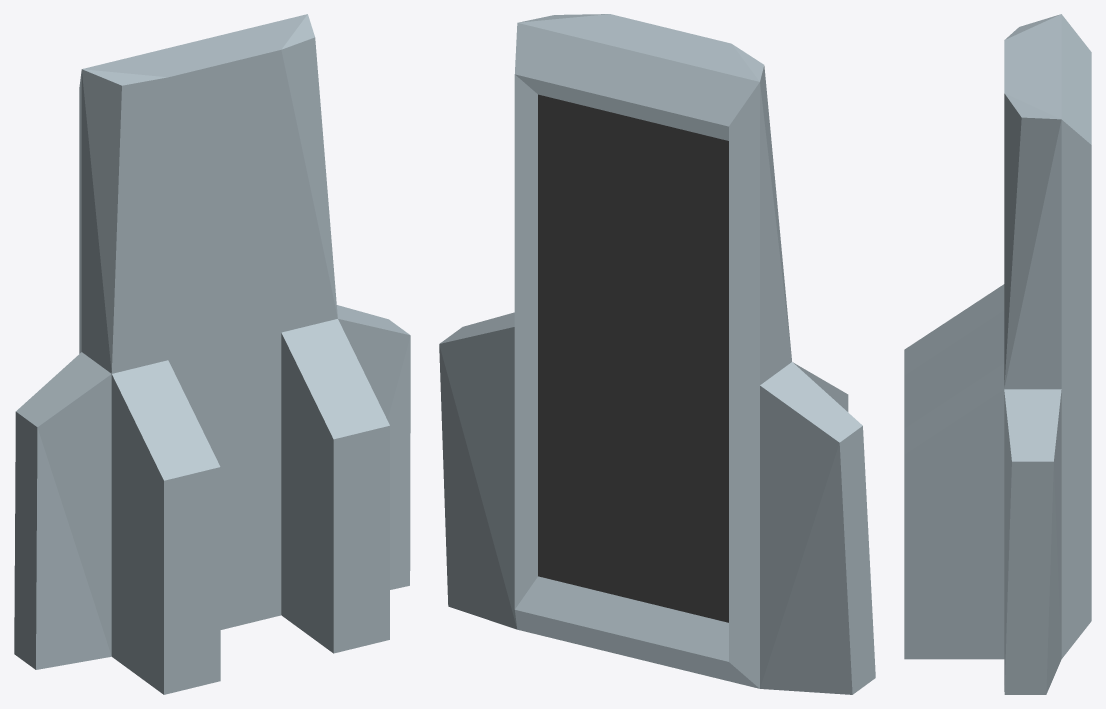
Rendered from CountDownScreen.glb.
3 views of the same model, side by side, from view 1: azimuth 30°, elevation 25°; view 2: azimuth 150°, elevation 25°; view 3: azimuth 270°, elevation 25° (orthographic). The views are drawn at different scales.
Parts seen in each view (by area): view 1: group668425043; view 2: group668425043; view 3: group668425043.
Part boxes in pixels (x1,y1,x2,y2): group668425043: (14, 14, 410, 694); group668425043: (439, 14, 875, 694); group668425043: (904, 14, 1091, 694).
Bounding box in the file's own units: 1.68 × 2.4 × 0.75.
